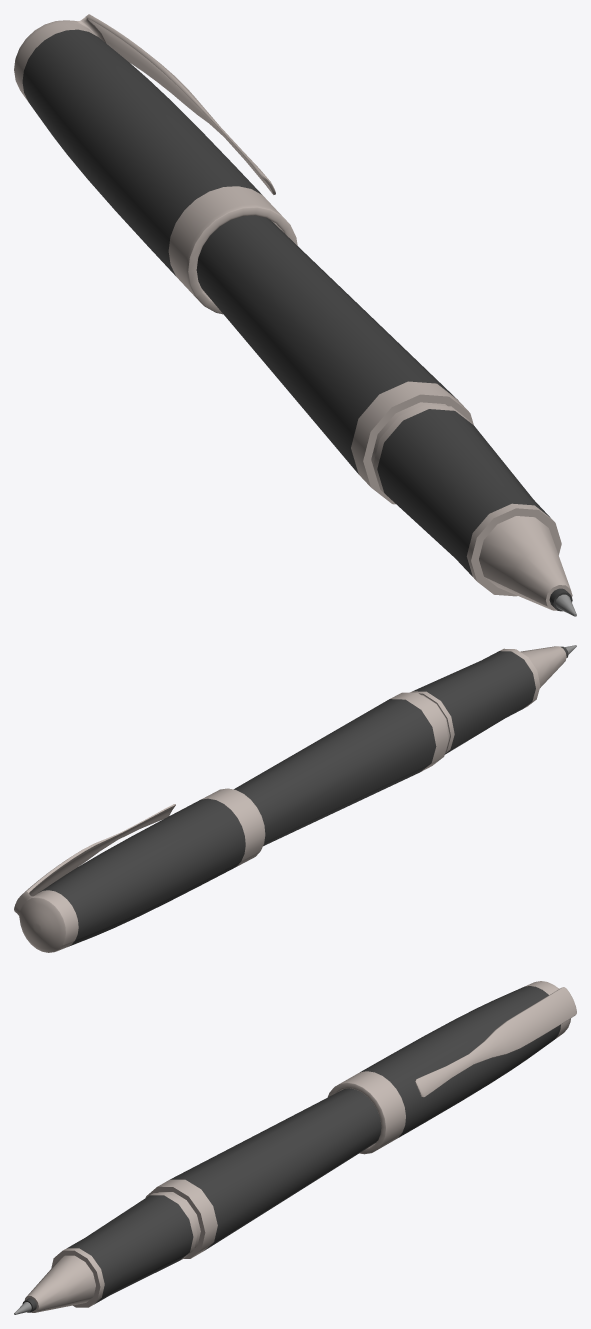
File: z1_pluma.obj
3 renders of one model, top to bottom at view 1: azimuth 30°, elevation 25°; view 2: azimuth 150°, elevation 25°; view 3: azimuth 330°, elevation 25°, orthographic. The views are drawn at different scales.
Parts seen in each view (by area): view 1: pen_base; view 2: pen_base; view 3: pen_base.
Boxes of the visible parts, x1,y1,x2,y2 form: pen_base: (14, 14, 576, 616); pen_base: (14, 645, 576, 952); pen_base: (14, 981, 576, 1314).
Bounding box in the file's own units: 0.0293 × 0.0146 × 0.15.
Materials: 3 (3 with a texture image).
